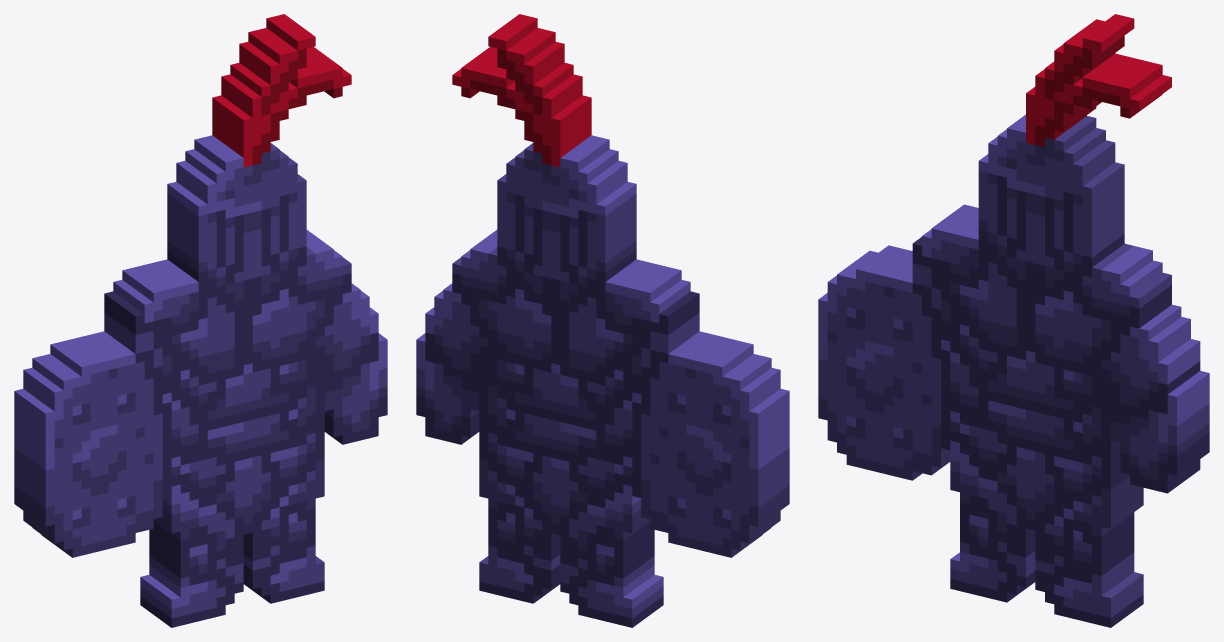
The model's file is soldier.obj.
3 views of the same model, side by side, from view 1: azimuth 30°, elevation 25°; view 2: azimuth 150°, elevation 25°; view 3: azimuth 330°, elevation 25° (orthographic). The views are drawn at different scales.
Bounding box in the file's own units: 76 × 118 × 12.
